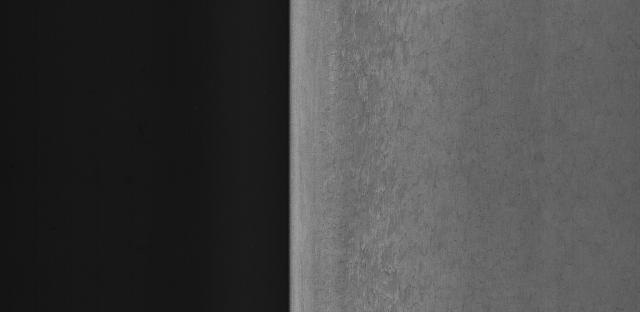silk_spot: (327, 14, 448, 288)
